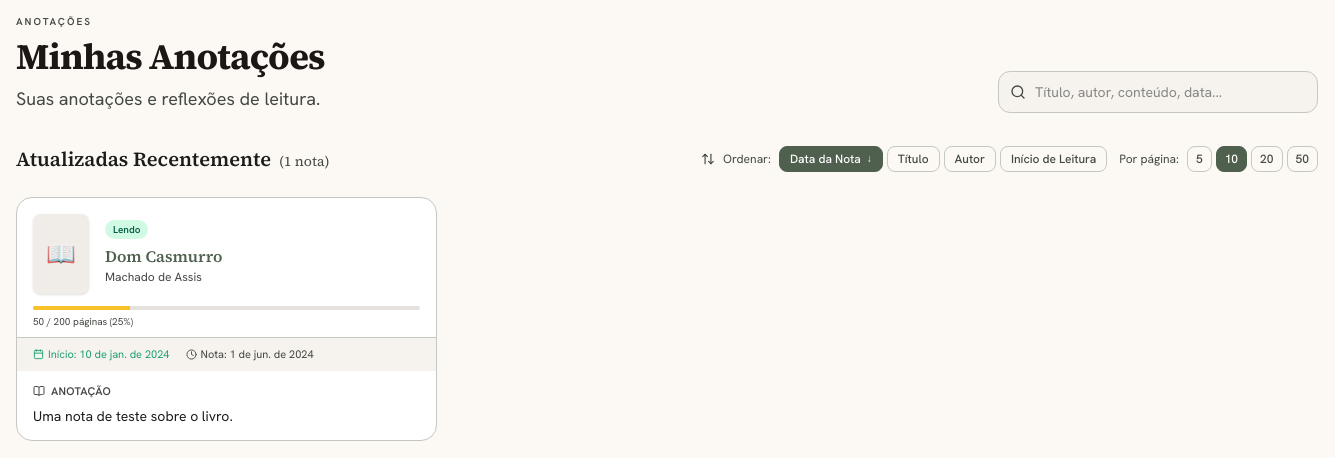
Test: NotesDashboardPage — search filter › shows "Resultados da busca" heading while filtering
The image size is (1335, 458).
In the field with placeholder "Título, autor, conteúdo, data...": (1158, 92) [998,71,1318,113], type "Dom"
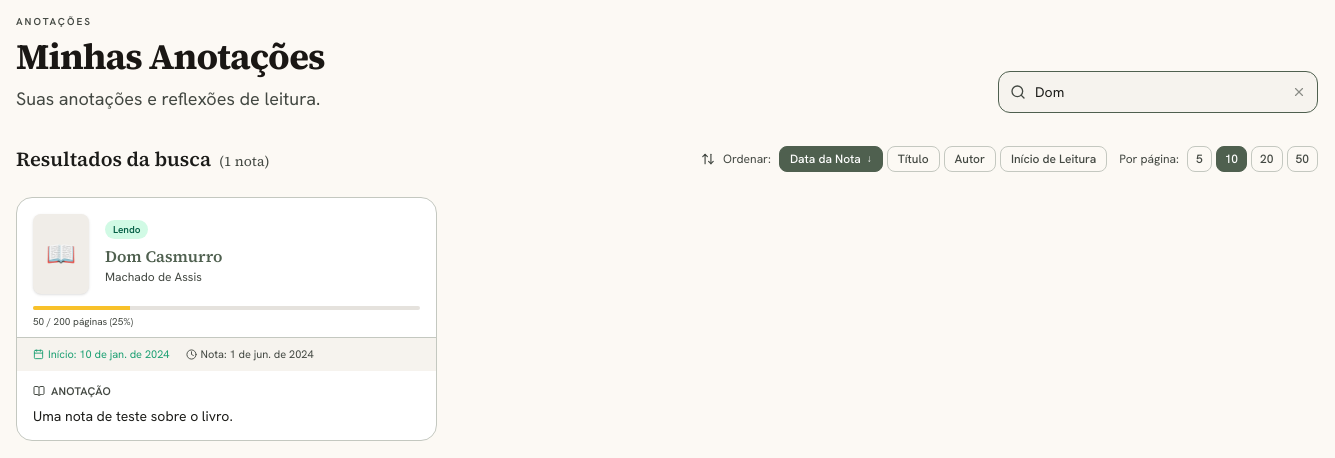
Check: the heading "Resultados da busca(1 nota)" is shown, box [16,145,270,173]
